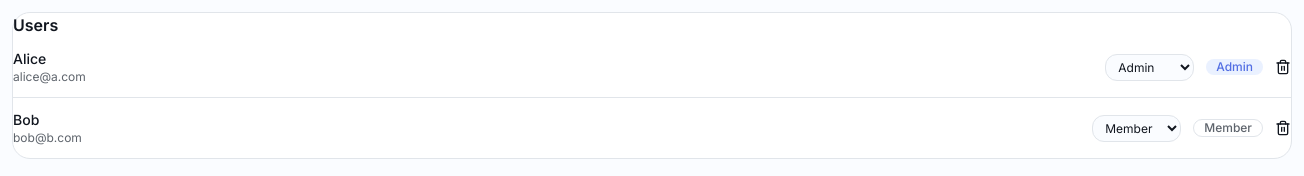
UsersTable › removes row when delete is clicked
Check: the text "Alice" is shown, box [13,50,46,67]
Click the button named "delete alice" at (1283, 67), box [1275,59,1291,75]
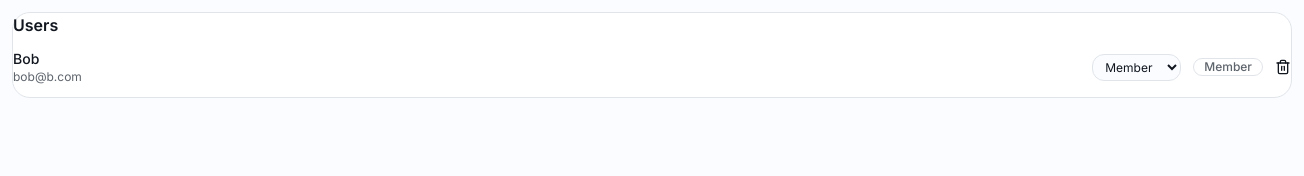
Check: the text "Bob" is shown, box [13,50,39,67]
Check: the text "Alice" is gone
